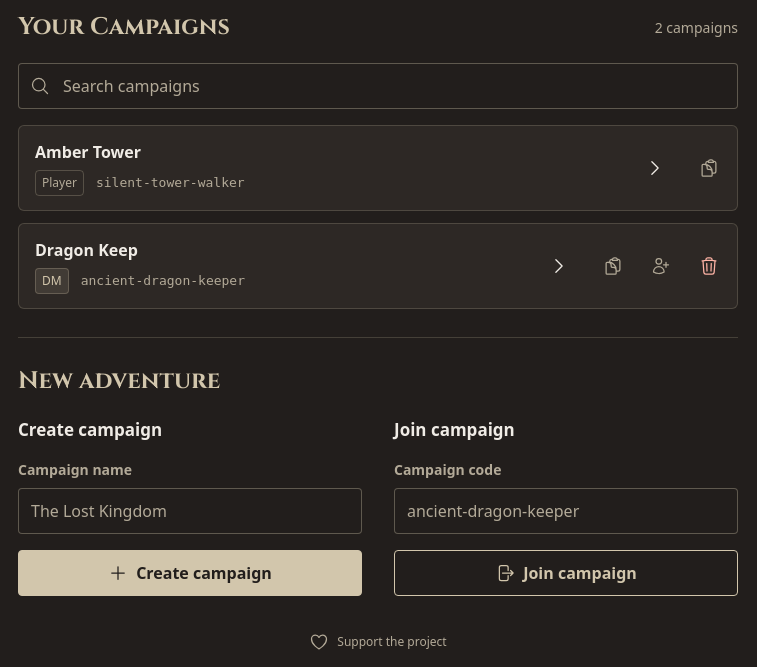
searches campaign names and codes without changing the total campaign count
In the search field labelled "Search campaigns": (378, 86) top-left (18, 63), bottom-right (738, 109), type "DRAGON"
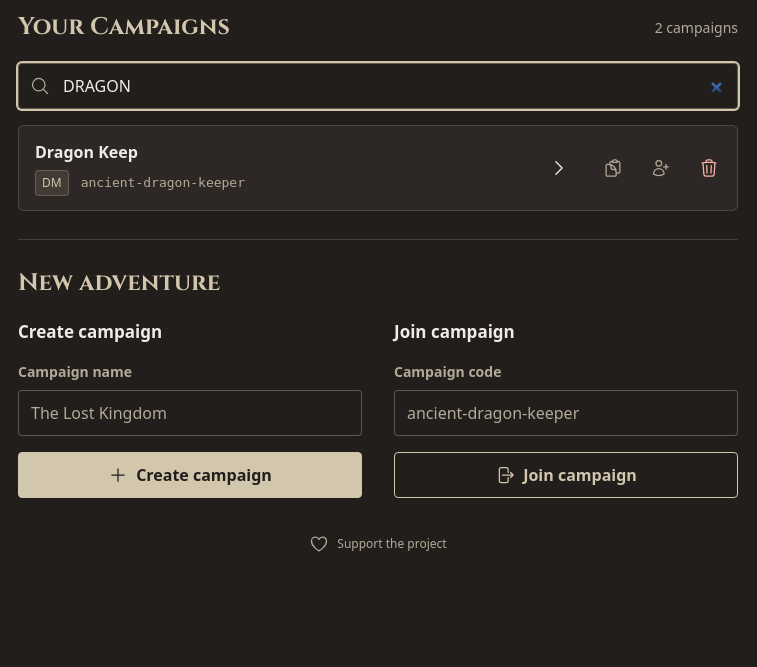
Expected: the button with aria-label "Open Dragon Keep" is shown, top-left (19, 126), bottom-right (585, 210)
Expected: the text "2 campaigns" is shown, top-left (655, 17), bottom-right (738, 38)
Replace the text in the search field named "Search campaigns" with "silent-tower": (378, 86) top-left (18, 63), bottom-right (738, 109)
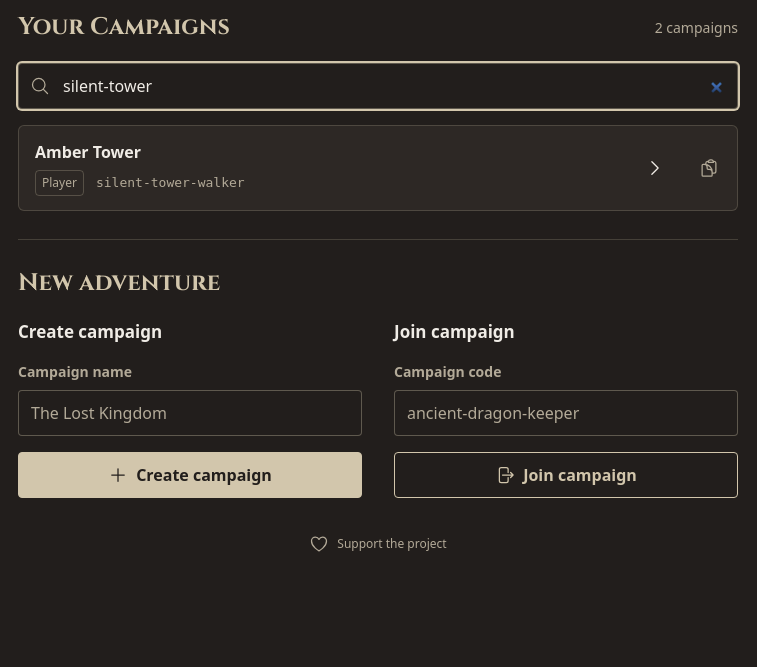
Result: the button with aria-label "Open Amber Tower" is shown at top-left (19, 126), bottom-right (681, 210)
Replace the text in the search field named "Search campaigns" with "not-found": (378, 86) top-left (18, 63), bottom-right (738, 109)
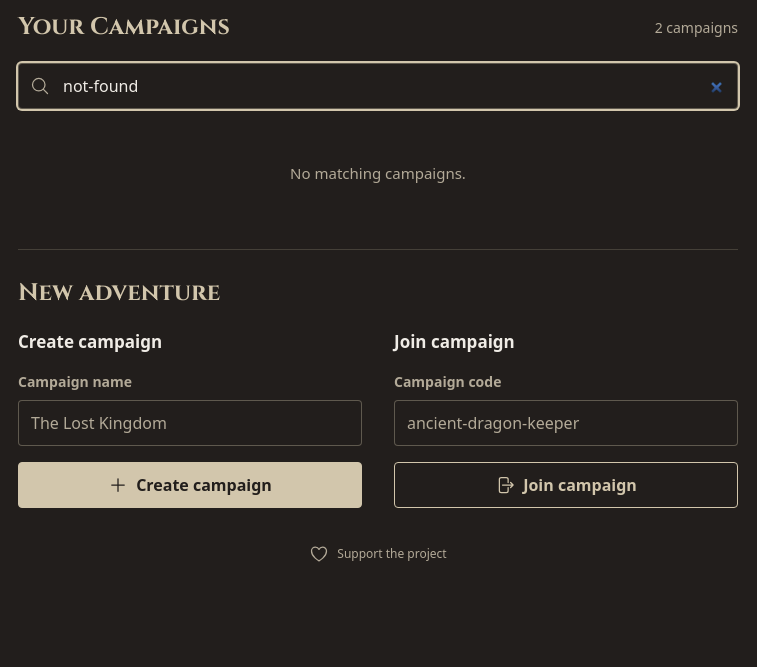
Expected: the form "Create campaign" is shown, top-left (18, 329), bottom-right (362, 508)
Result: the message reads "No matching campaigns." at top-left (290, 163), bottom-right (466, 183)
